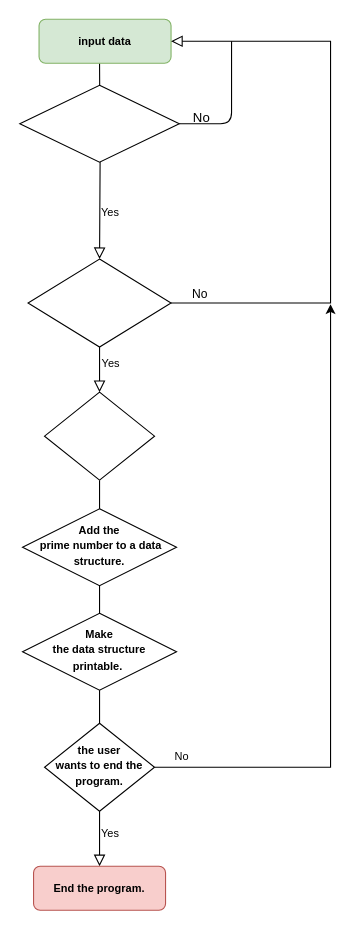
The diagram is 361 pixels wide and 930 high, and some of its shapes have lost their labels. Here are the shapes that lost their labels. From the top down, the centre of each, then its label:
[99,123]: convert to int number
[99,302]: Is the number prime?
[99,435]: notify the user.
